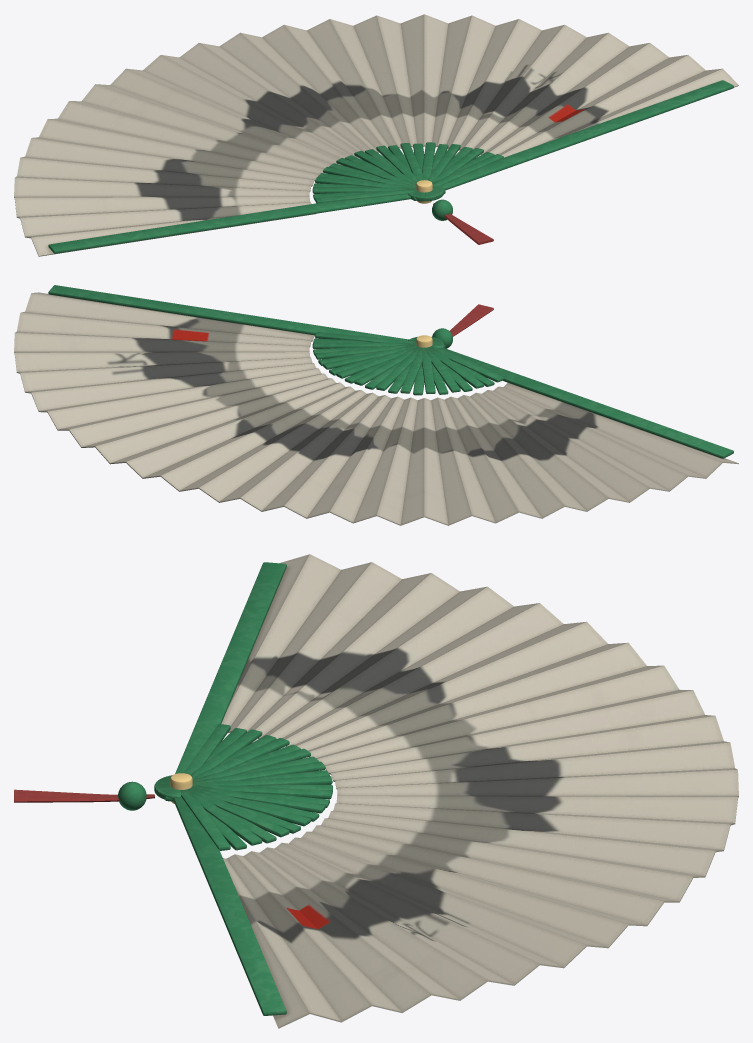
File: folding_fan.glb
3 views of the same model, one above another, from view 1: azimuth 30°, elevation 25°; view 2: azimuth 150°, elevation 25°; view 3: azimuth 270°, elevation 25° (orthographic). The views are drawn at different scales.
Parts seen in each view (by area): view 1: folding_fan; view 2: folding_fan; view 3: folding_fan.
Boxes of the visible parts, bbox=[...] form: folding_fan: bbox=[14, 14, 738, 256]; folding_fan: bbox=[14, 285, 738, 525]; folding_fan: bbox=[14, 554, 738, 1028].
Bounding box in the file's own units: 0.4924 × 0.016 × 0.3251.
Materials: 1 (1 with a texture image).
